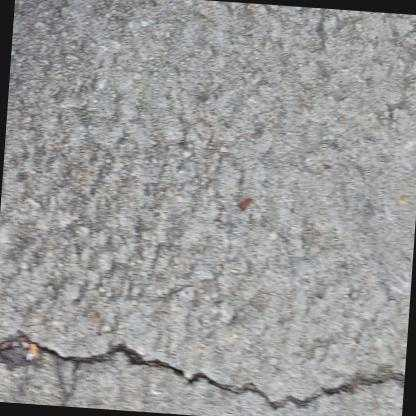crack: (0, 340, 405, 408)
